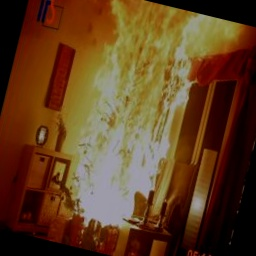fire: (32, 0, 256, 255)
